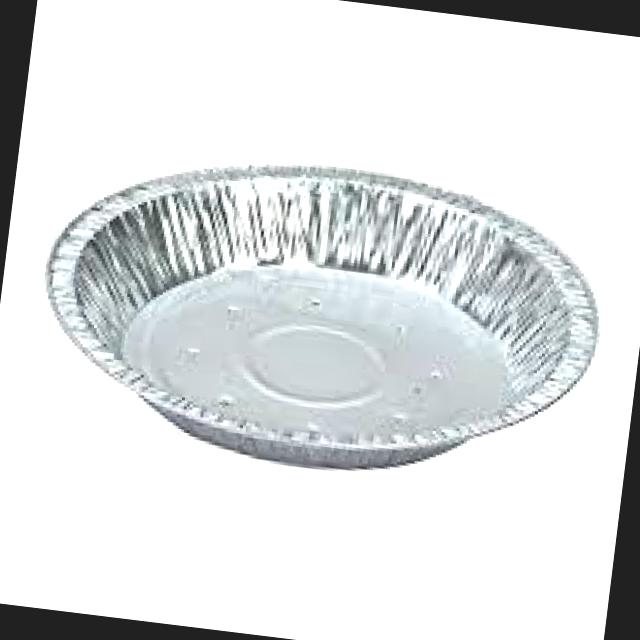kim_loai: (45, 166, 597, 472)
